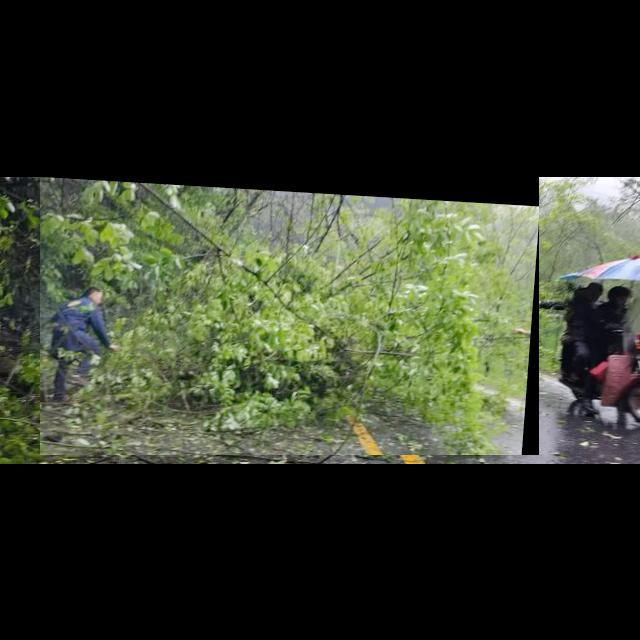fallen_tree: (40, 176, 540, 456)
